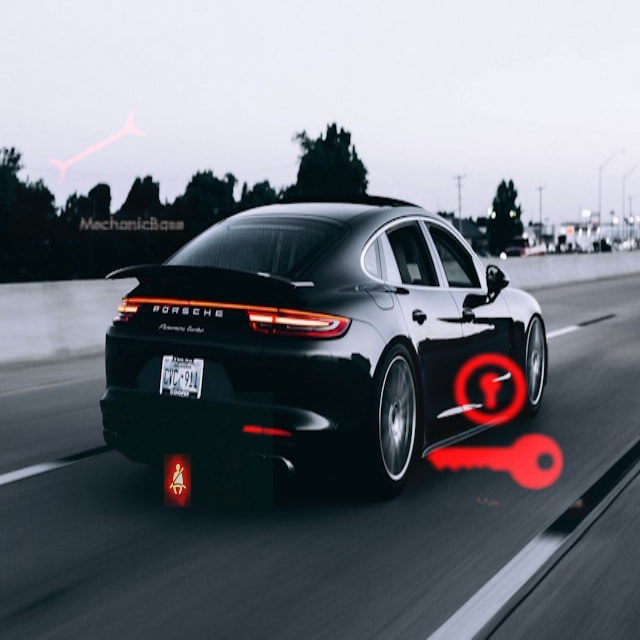symbol: (83, 392, 273, 582), (401, 328, 590, 517), (8, 56, 191, 239)
